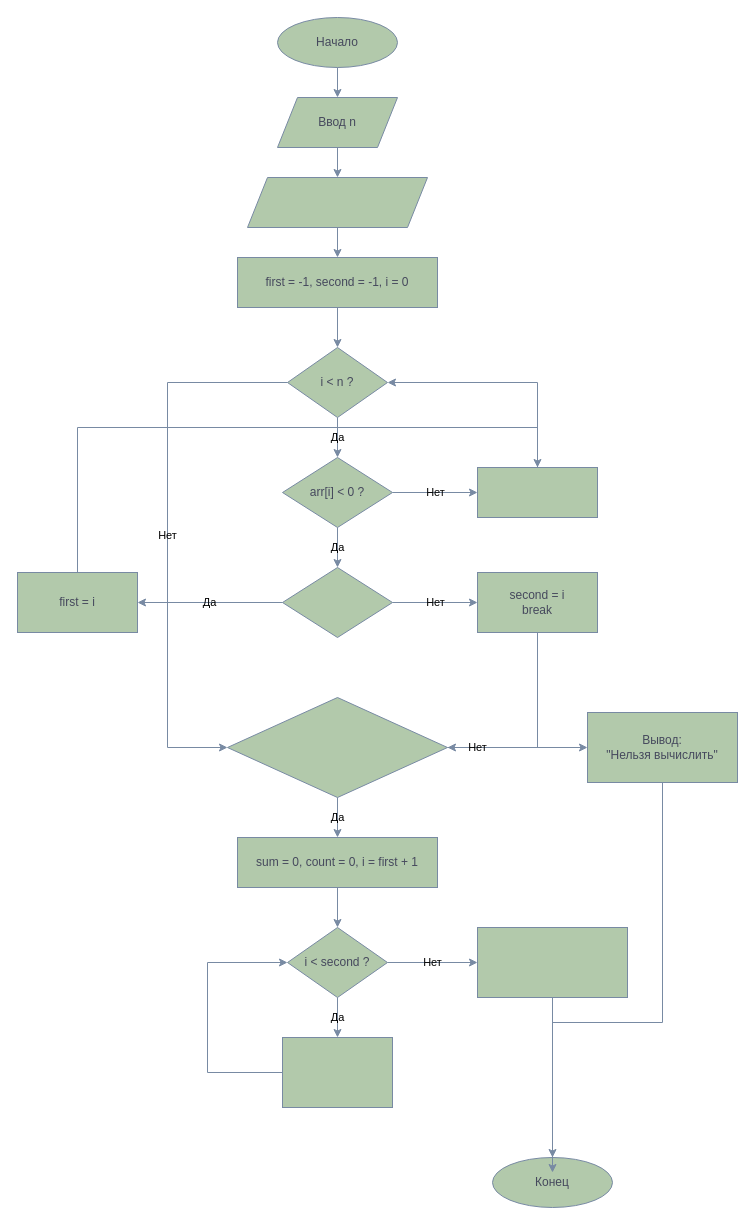
The diagram is 755 pixels wide and 1225 high, and some of its shapes have lost their labels. The box of each missing label's shape, as (x1, y1, x2, y2) in pixels:
first != -1 и second != -1 и second - first > 1 ?: (226, 696, 448, 798)
first == -1 ?: (282, 566, 392, 638)
i++: (476, 466, 598, 518)
sum += arr[i] count++ i++: (282, 1036, 392, 1108)
Ввод массива arr[0..n-1]: (246, 176, 428, 228)
Вывод: Среднее = sum / count: (476, 926, 628, 998)
